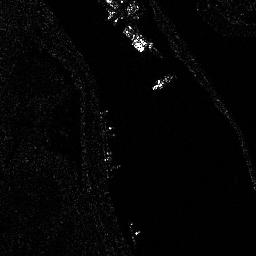ship: (119, 27, 144, 53), (151, 74, 173, 90)
